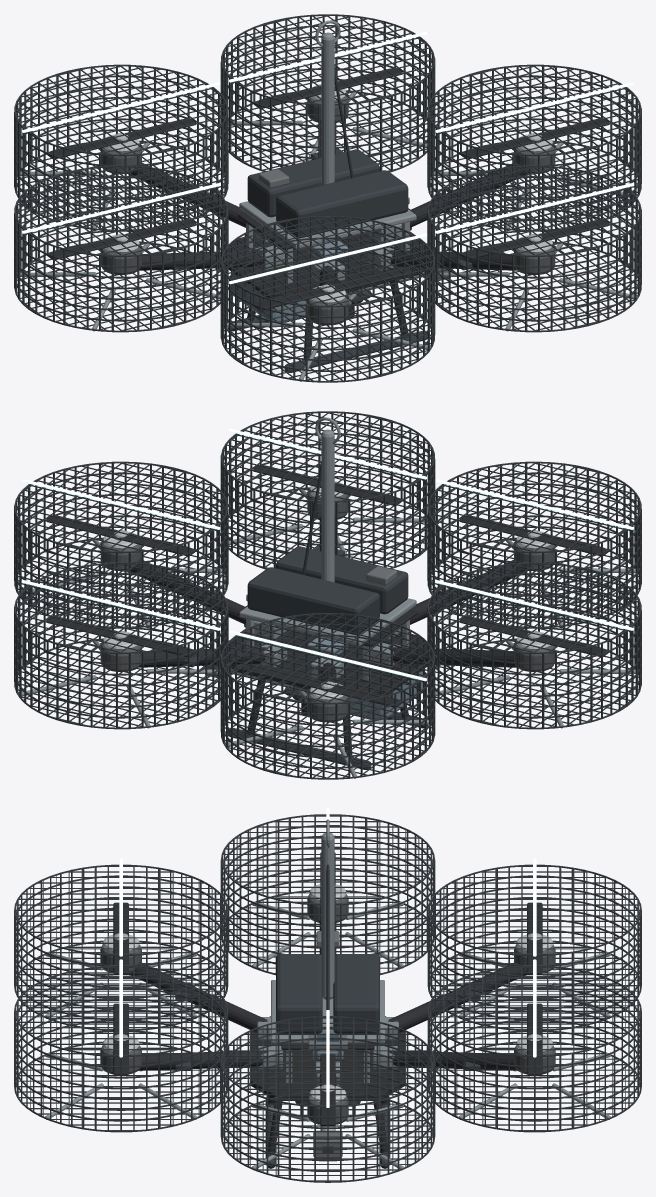
Rendered from robot-602-spec2026v3.glb.
3 views of the same model, one above another, from view 1: azimuth 30°, elevation 25°; view 2: azimuth 150°, elevation 25°; view 3: azimuth 270°, elevation 25° (orthographic).
Parts seen in each view (by area): view 1: Chassis_RobotMatteGraphite, Chassis_RobotMatteAluminum, Chassis_CarbonPlate, Chassis_TeamGlow, Chassis_MotorHousing, Chassis_MotorCapSilver, Chassis_TeamPrimaryShell, PropellerBlade.005, PropellerBlade.002, PropellerBlade, PropellerBlade.004, PropellerBlade.003 (+1 smaller); view 2: Chassis_RobotMatteGraphite, Chassis_RobotMatteAluminum, Chassis_CarbonPlate, Chassis_TeamGlow, Chassis_MotorHousing, Chassis_MotorCapSilver, Chassis_TeamPrimaryShell, PropellerBlade.001, PropellerBlade.004, PropellerBlade, PropellerBlade.002, PropellerBlade.003 (+1 smaller); view 3: Chassis_RobotMatteGraphite, Chassis_CarbonPlate, Chassis_RobotMatteAluminum, Chassis_MotorHousing, Chassis_TeamGlow, Chassis_MotorCapSilver, PropellerBlade, PropellerBlade.001, PropellerBlade.005, PropellerBlade.002, PropellerBlade.004, AirMuzzleSpeedModule (+1 smaller).
Part boxes in pixels (x1,y1,x2,y2): Chassis_RobotMatteGraphite: (14, 14, 641, 382); Chassis_RobotMatteAluminum: (20, 20, 637, 381); Chassis_CarbonPlate: (127, 119, 524, 360); Chassis_TeamGlow: (22, 32, 633, 284); Chassis_MotorHousing: (100, 94, 555, 325); Chassis_MotorCapSilver: (104, 84, 552, 303); Chassis_TeamPrimaryShell: (233, 240, 351, 322); PropellerBlade.005: (460, 218, 609, 259); PropellerBlade.002: (46, 117, 195, 159); PropellerBlade: (460, 117, 609, 159); PropellerBlade.004: (253, 269, 402, 310); PropellerBlade.003: (46, 218, 195, 259); Chassis_RobotMatteGraphite: (14, 411, 641, 779); Chassis_RobotMatteAluminum: (18, 417, 635, 778); Chassis_CarbonPlate: (131, 516, 528, 757); Chassis_TeamGlow: (22, 429, 633, 681); Chassis_MotorHousing: (100, 491, 555, 722); Chassis_MotorCapSilver: (103, 481, 551, 700); Chassis_TeamPrimaryShell: (304, 637, 422, 719); PropellerBlade.001: (46, 615, 195, 656); PropellerBlade.004: (460, 514, 609, 556); PropellerBlade: (46, 514, 195, 556); PropellerBlade.002: (253, 666, 402, 707); PropellerBlade.003: (460, 615, 609, 656); Chassis_RobotMatteGraphite: (14, 814, 641, 1182); Chassis_CarbonPlate: (128, 921, 527, 1152); Chassis_RobotMatteAluminum: (45, 819, 610, 1170); Chassis_MotorHousing: (100, 894, 555, 1124); Chassis_TeamGlow: (119, 808, 536, 1107); Chassis_MotorCapSilver: (103, 884, 552, 1103); PropellerBlade: (320, 1054, 335, 1125); PropellerBlade.001: (527, 1003, 542, 1075); PropellerBlade.005: (113, 1003, 128, 1075); PropellerBlade.002: (527, 902, 542, 974); PropellerBlade.004: (113, 902, 128, 974); AirMuzzleSpeedModule: (313, 1130, 342, 1158).
Size of the model in its own units: 1.36 by 0.67 by 1.21.
